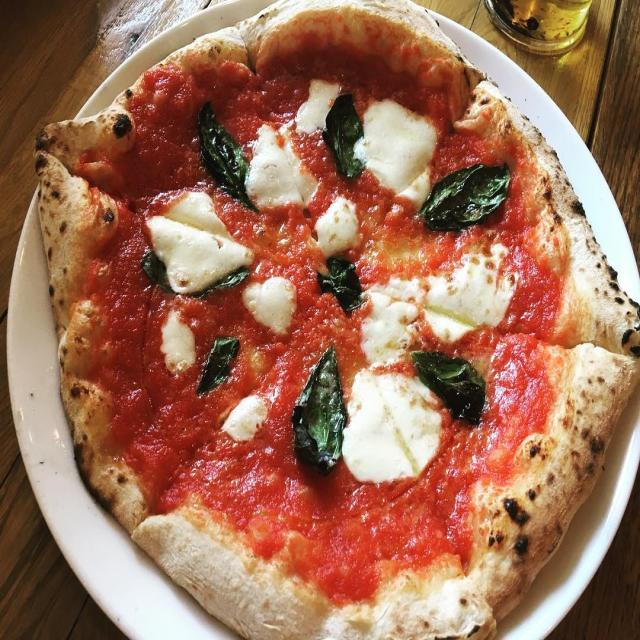basil: (191, 96, 261, 215), (288, 341, 348, 476), (416, 156, 512, 234), (409, 340, 487, 427), (135, 243, 250, 300), (321, 92, 368, 184), (315, 250, 369, 318), (196, 329, 241, 396)
pizza: (32, 0, 640, 640)
